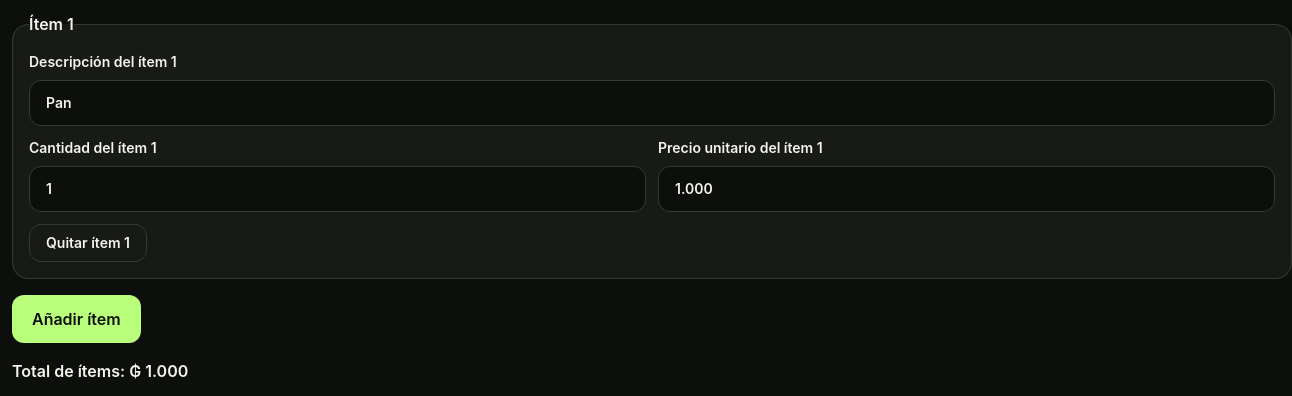
PurchaseItemEditor › removes an item and never renders a file input
Click the button "Quitar ítem 1" at (88, 243), box [29, 224, 147, 262]
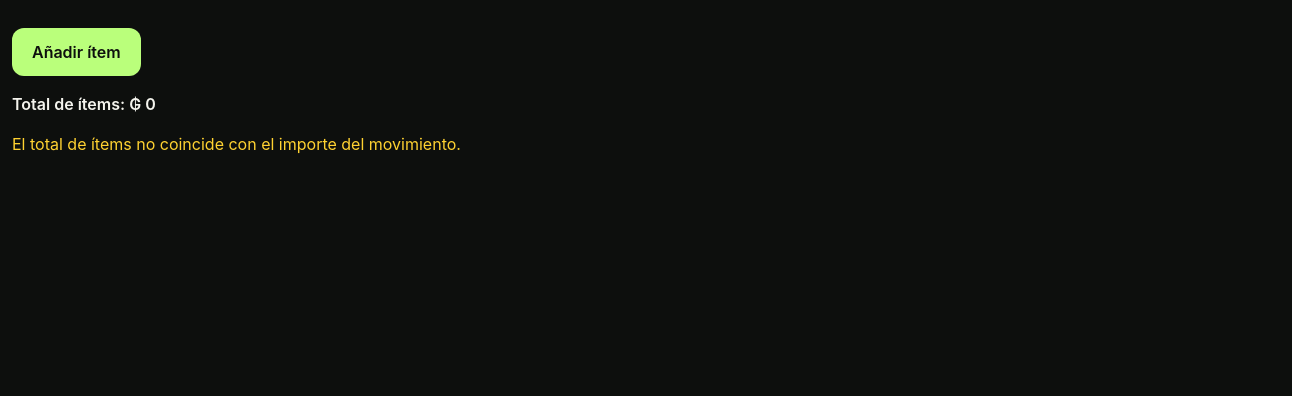
Now the label labelled "Descripción del ítem 1" is gone
